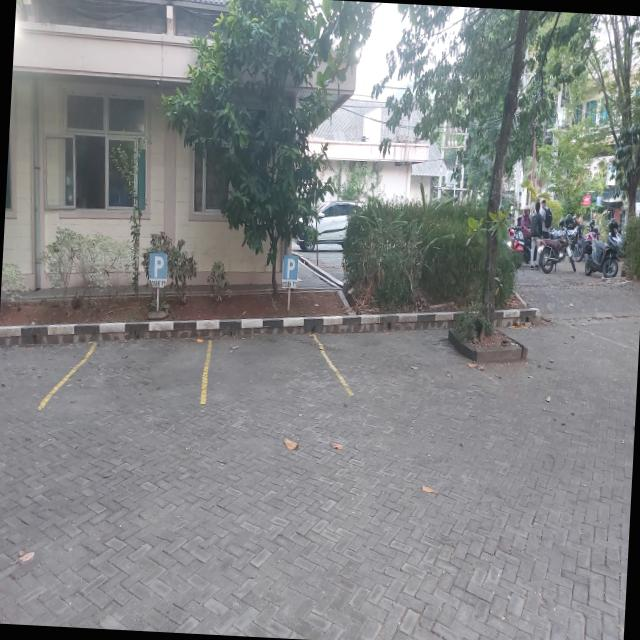free: (310, 326, 498, 394), (39, 337, 213, 408), (201, 328, 352, 401), (0, 346, 94, 411)
